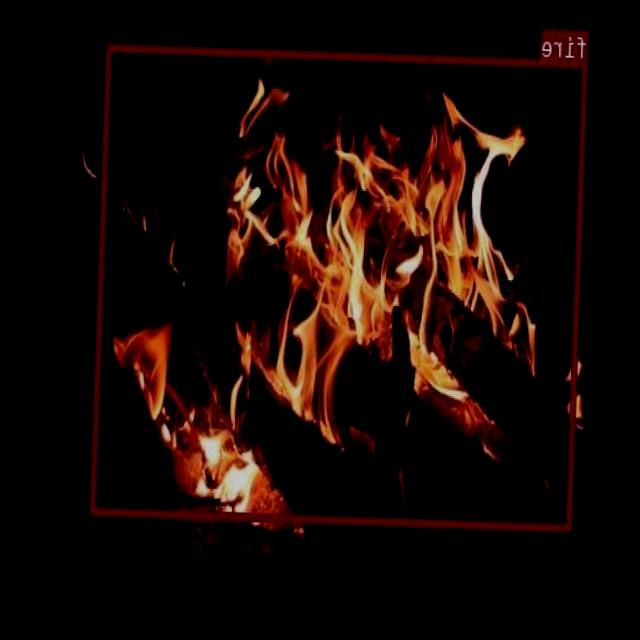fire: (91, 42, 588, 530)
